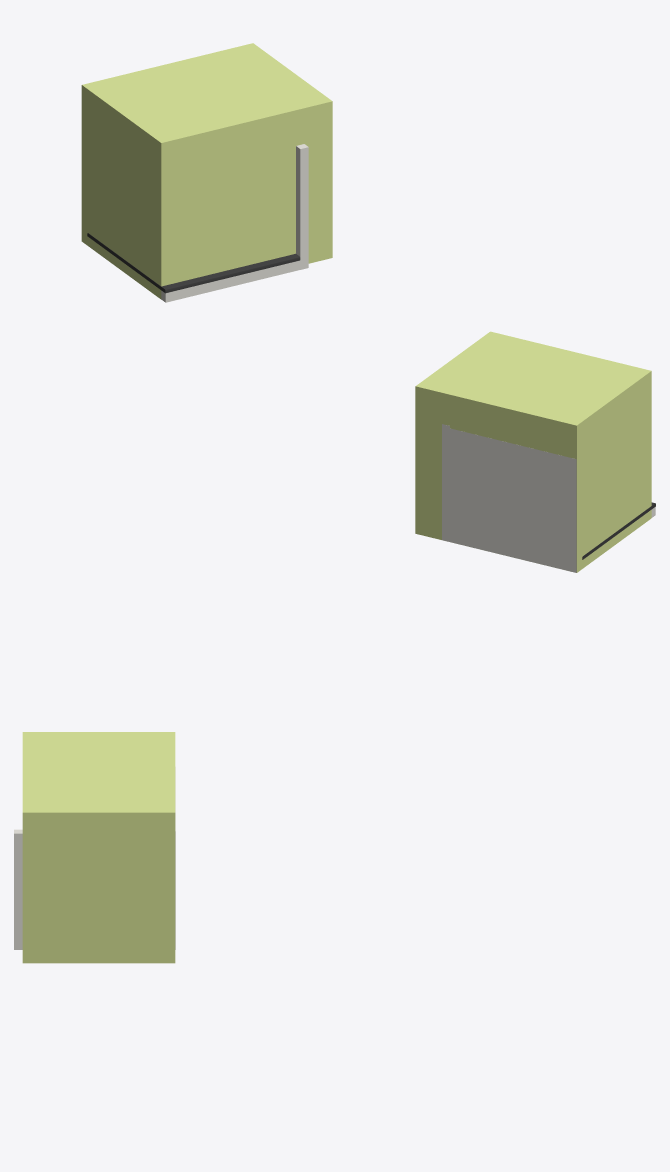
File: prueba3dsmax.glb
3 renders of one model, top to bottom at view 1: azimuth 30°, elevation 25°; view 2: azimuth 150°, elevation 25°; view 3: azimuth 270°, elevation 25°, orthographic. The views are drawn at different scales.
Parts seen in each view (by area): view 1: Referencia, Pared y base, Piso; view 2: Referencia, Pared y base; view 3: Referencia, Pared y base.
Part boxes in pixels (box(x1,y1,x2,y2)): Referencia: box(81, 43, 332, 299); Pared y base: box(161, 144, 308, 302); Piso: box(87, 233, 300, 293); Referencia: box(415, 331, 651, 572); Pared y base: box(442, 424, 655, 572); Referencia: box(22, 732, 175, 963); Pared y base: box(14, 767, 175, 949).
Size of the model in its own units: 3649 by 932 by 3598.
